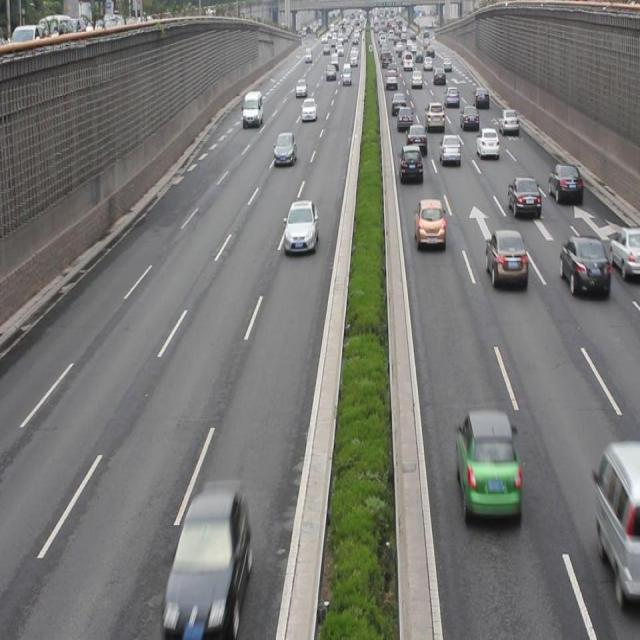car: (166, 486, 250, 617), (456, 412, 521, 528), (558, 236, 607, 296), (484, 227, 526, 289), (282, 202, 316, 252), (545, 162, 582, 205), (608, 227, 640, 276), (413, 199, 444, 245), (506, 176, 540, 216), (399, 145, 421, 184), (272, 131, 296, 163), (475, 127, 498, 159), (406, 123, 426, 157), (439, 134, 460, 166), (496, 108, 517, 134), (426, 104, 443, 133), (459, 106, 477, 127), (396, 104, 411, 129)
truck: (590, 441, 640, 597)
